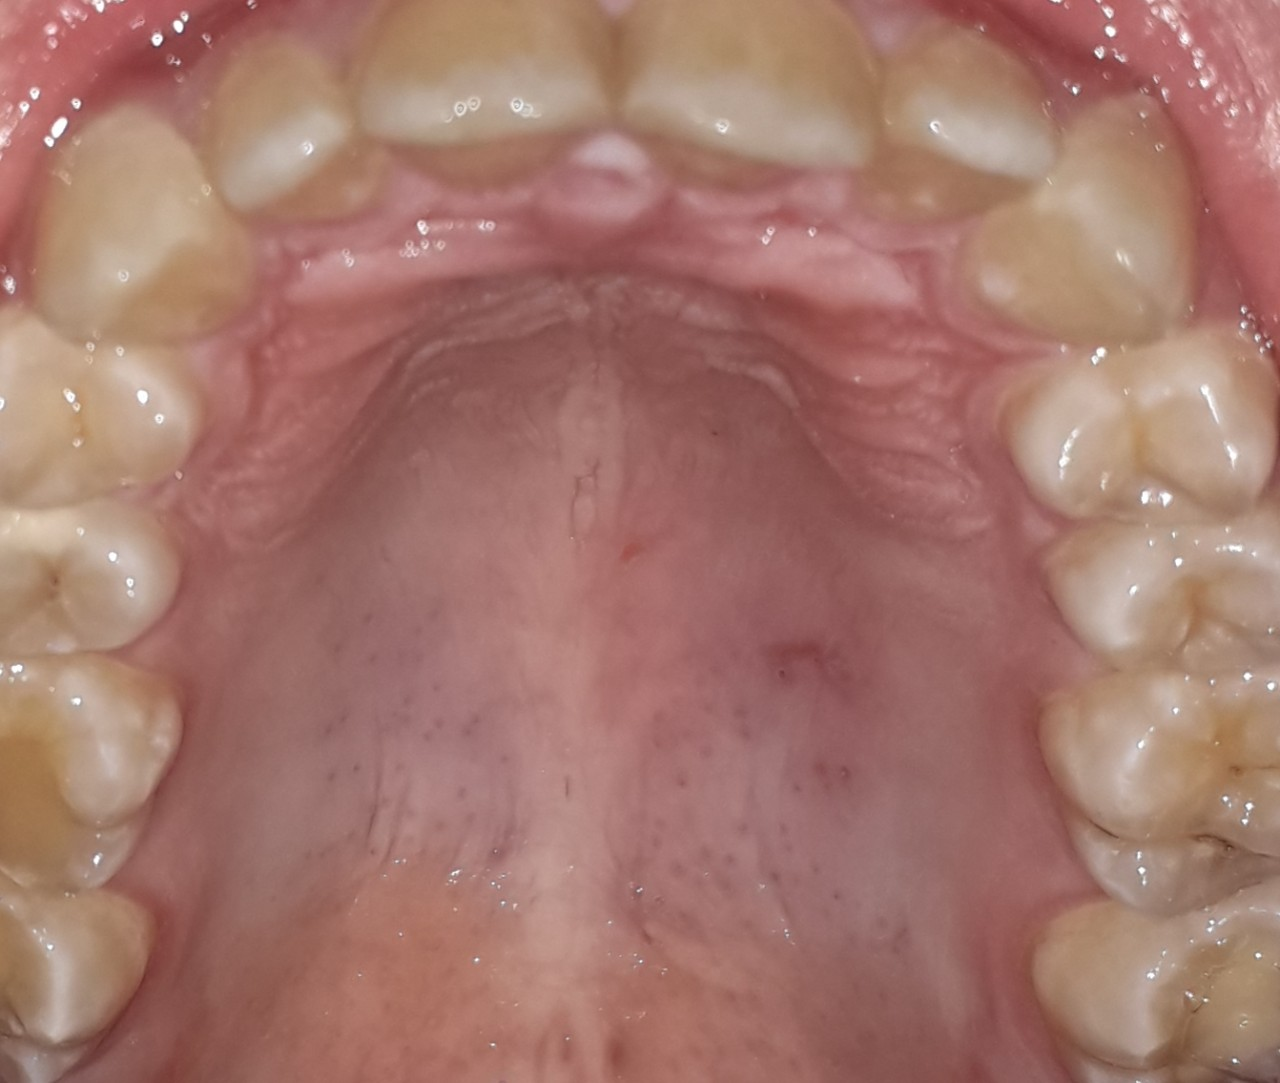UL1BC_healthy: (1015, 327, 1271, 521)
UL1M_healthy: (1049, 676, 1280, 909)
UL2BC_healthy: (1051, 516, 1280, 669)
UL2M_healthy: (1029, 882, 1280, 1082)
ULCI_healthy: (612, 1, 874, 185)
ULC_healthy: (957, 90, 1195, 350)
ULLI_healthy: (861, 31, 1051, 235)
UR1BC_healthy: (1, 320, 195, 491)
UR1M_healthy: (1, 652, 182, 893)
UR2BC_healthy: (1, 505, 188, 658)
UR2M_healthy: (1, 887, 152, 1078)
URCI_healthy: (361, 1, 617, 171)
URC_healthy: (26, 102, 273, 340)
URLI_healthy: (199, 45, 369, 223)
